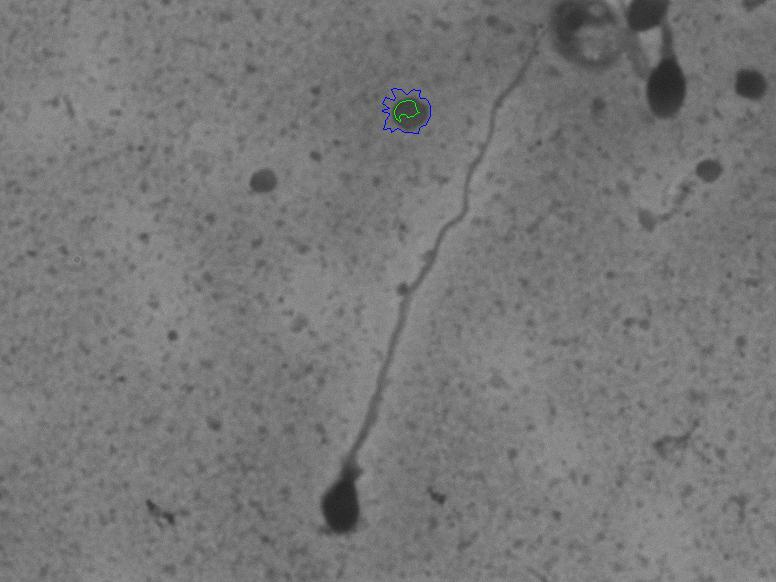Abnormal: (285, 49, 550, 543)
